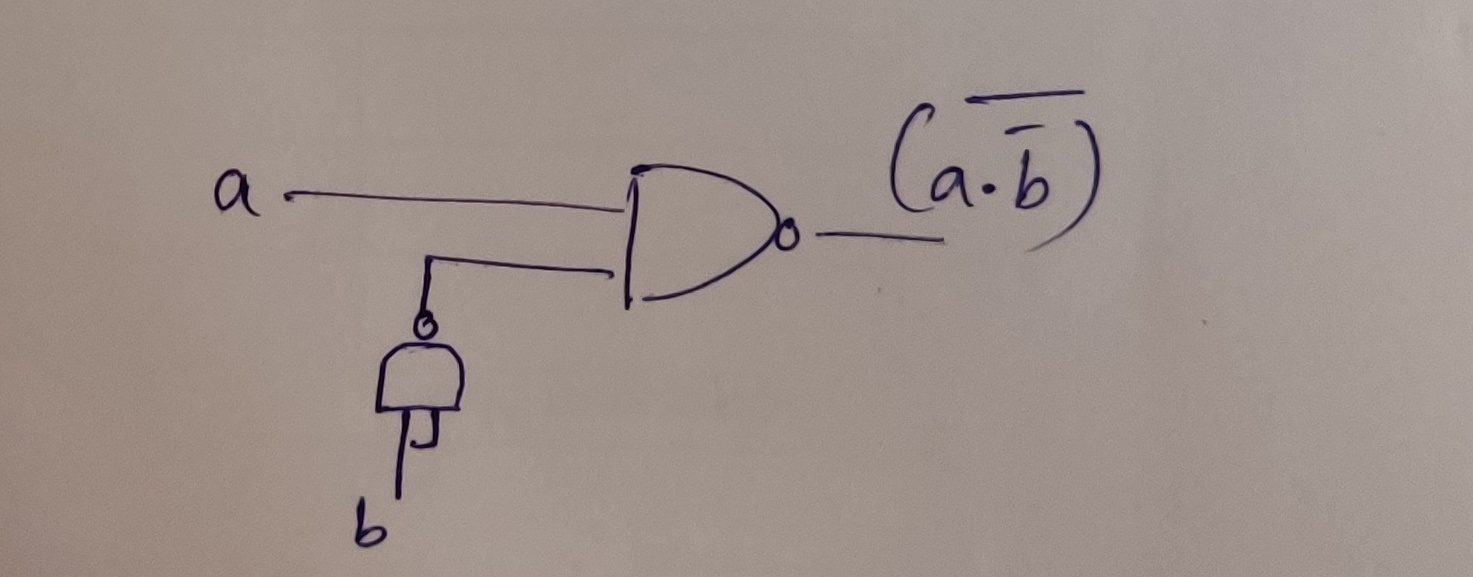nand: (590, 145, 847, 334), (360, 302, 501, 434)
